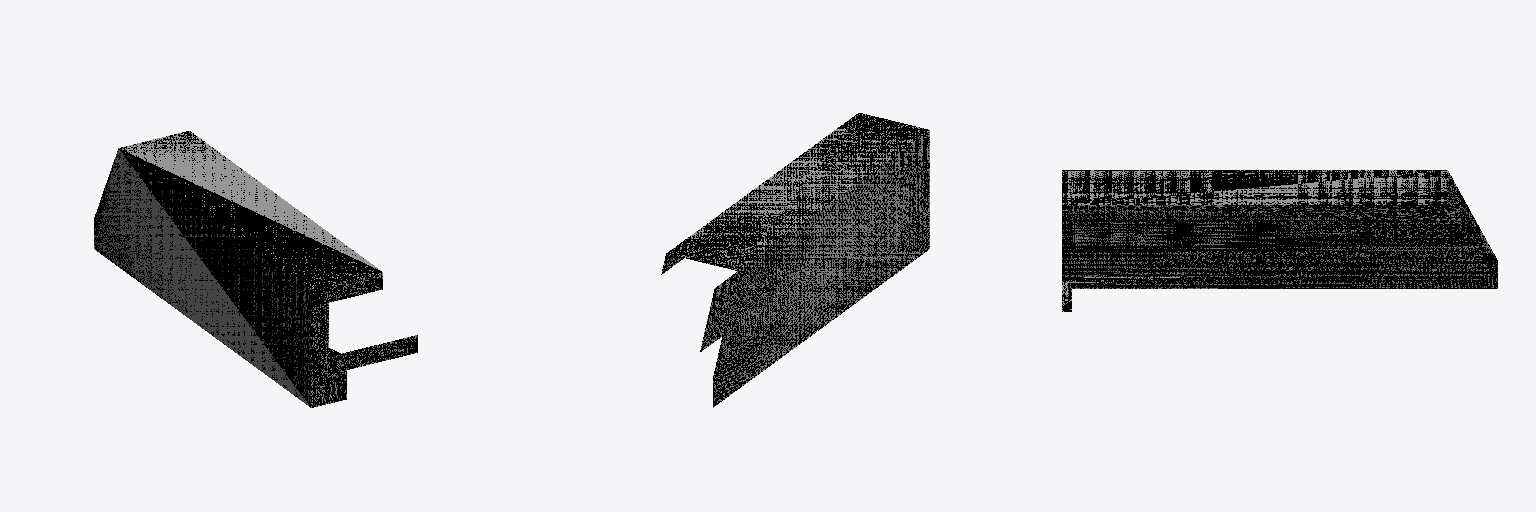
File: original-131.obj
3 views of the same model, side by side, from view 1: azimuth 30°, elevation 25°; view 2: azimuth 150°, elevation 25°; view 3: azimuth 270°, elevation 25° (orthographic).
Parts seen in each view (by area): view 1: #ID672; view 2: #ID672; view 3: #ID672.
Boxes of the visible parts, x1=… form: #ID672: x1=94, y1=131, x2=417, y2=407; #ID672: x1=661, y1=113, x2=929, y2=407; #ID672: x1=1062, y1=170, x2=1497, y2=311.
Bounding box in the file's own units: 0.0359 × 0.0382 × 0.1266.